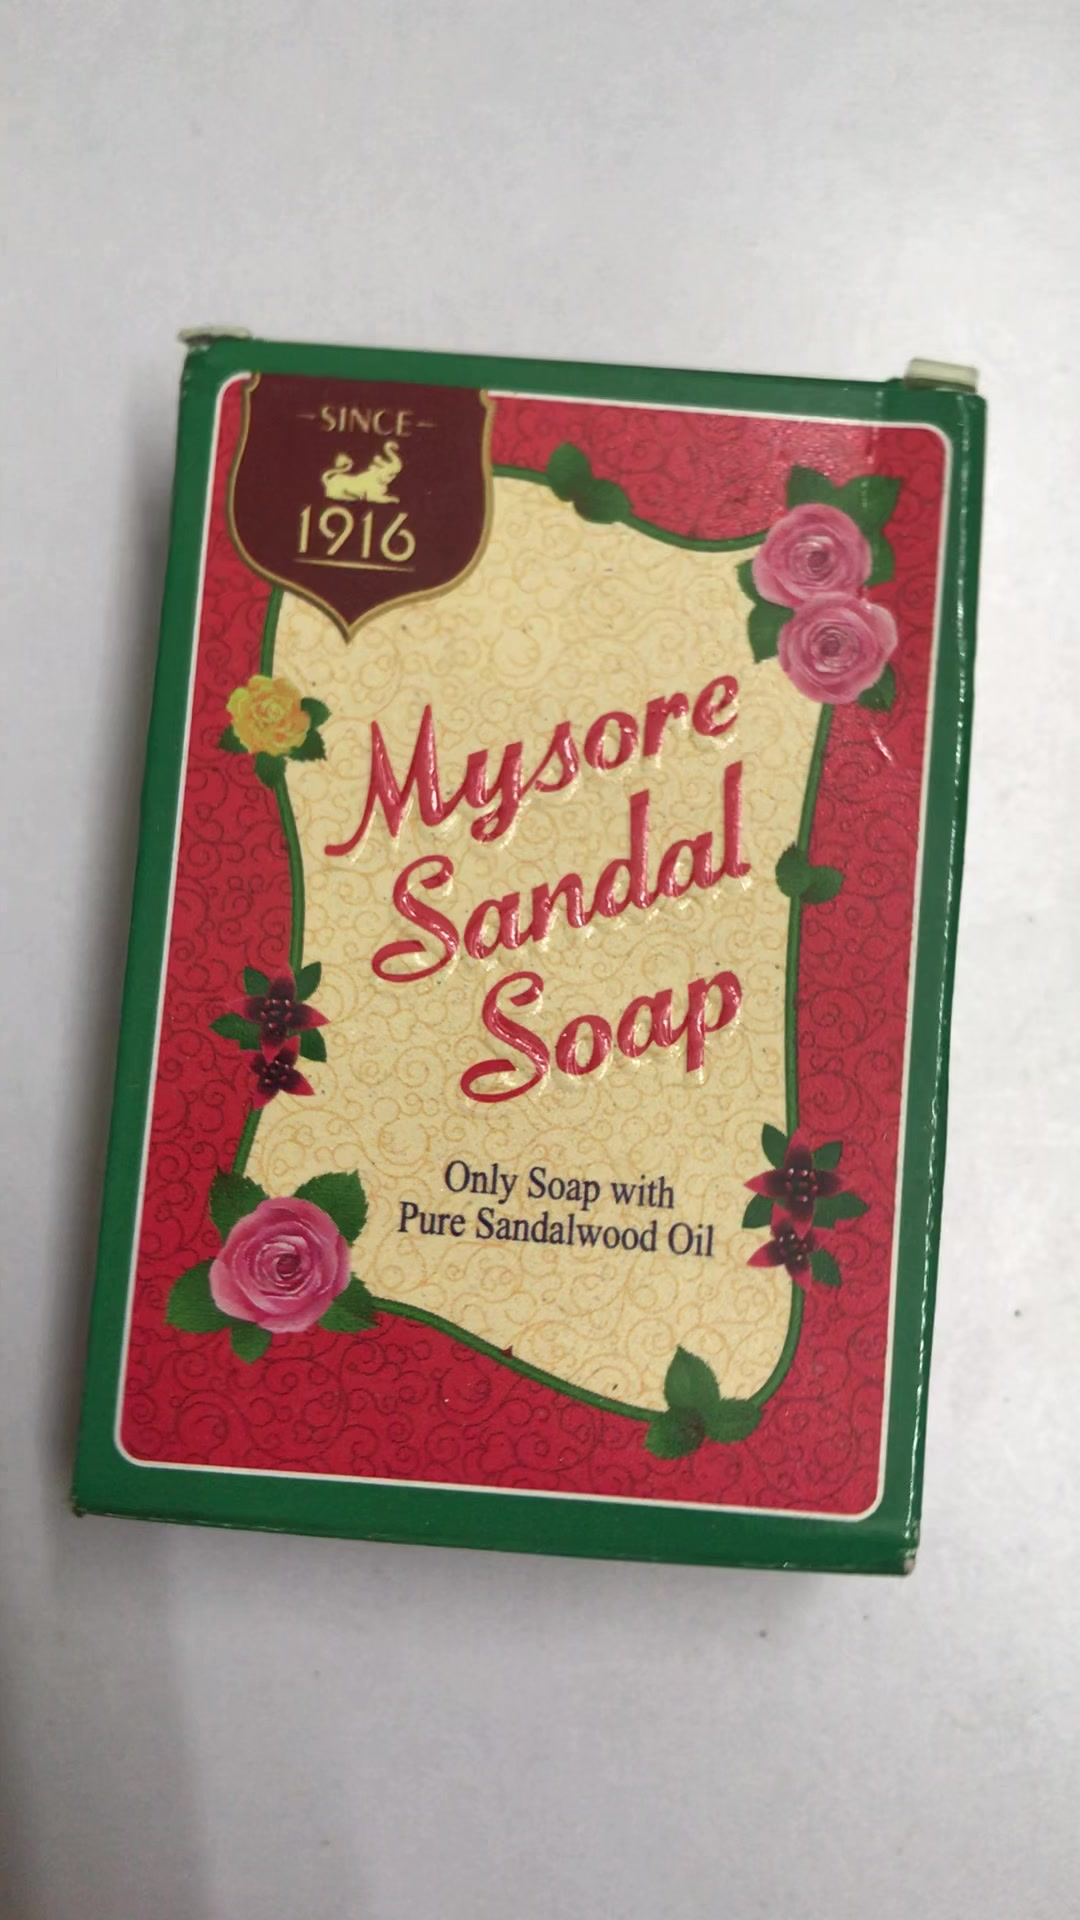mysore sandal soap: (78, 340, 971, 1573)
